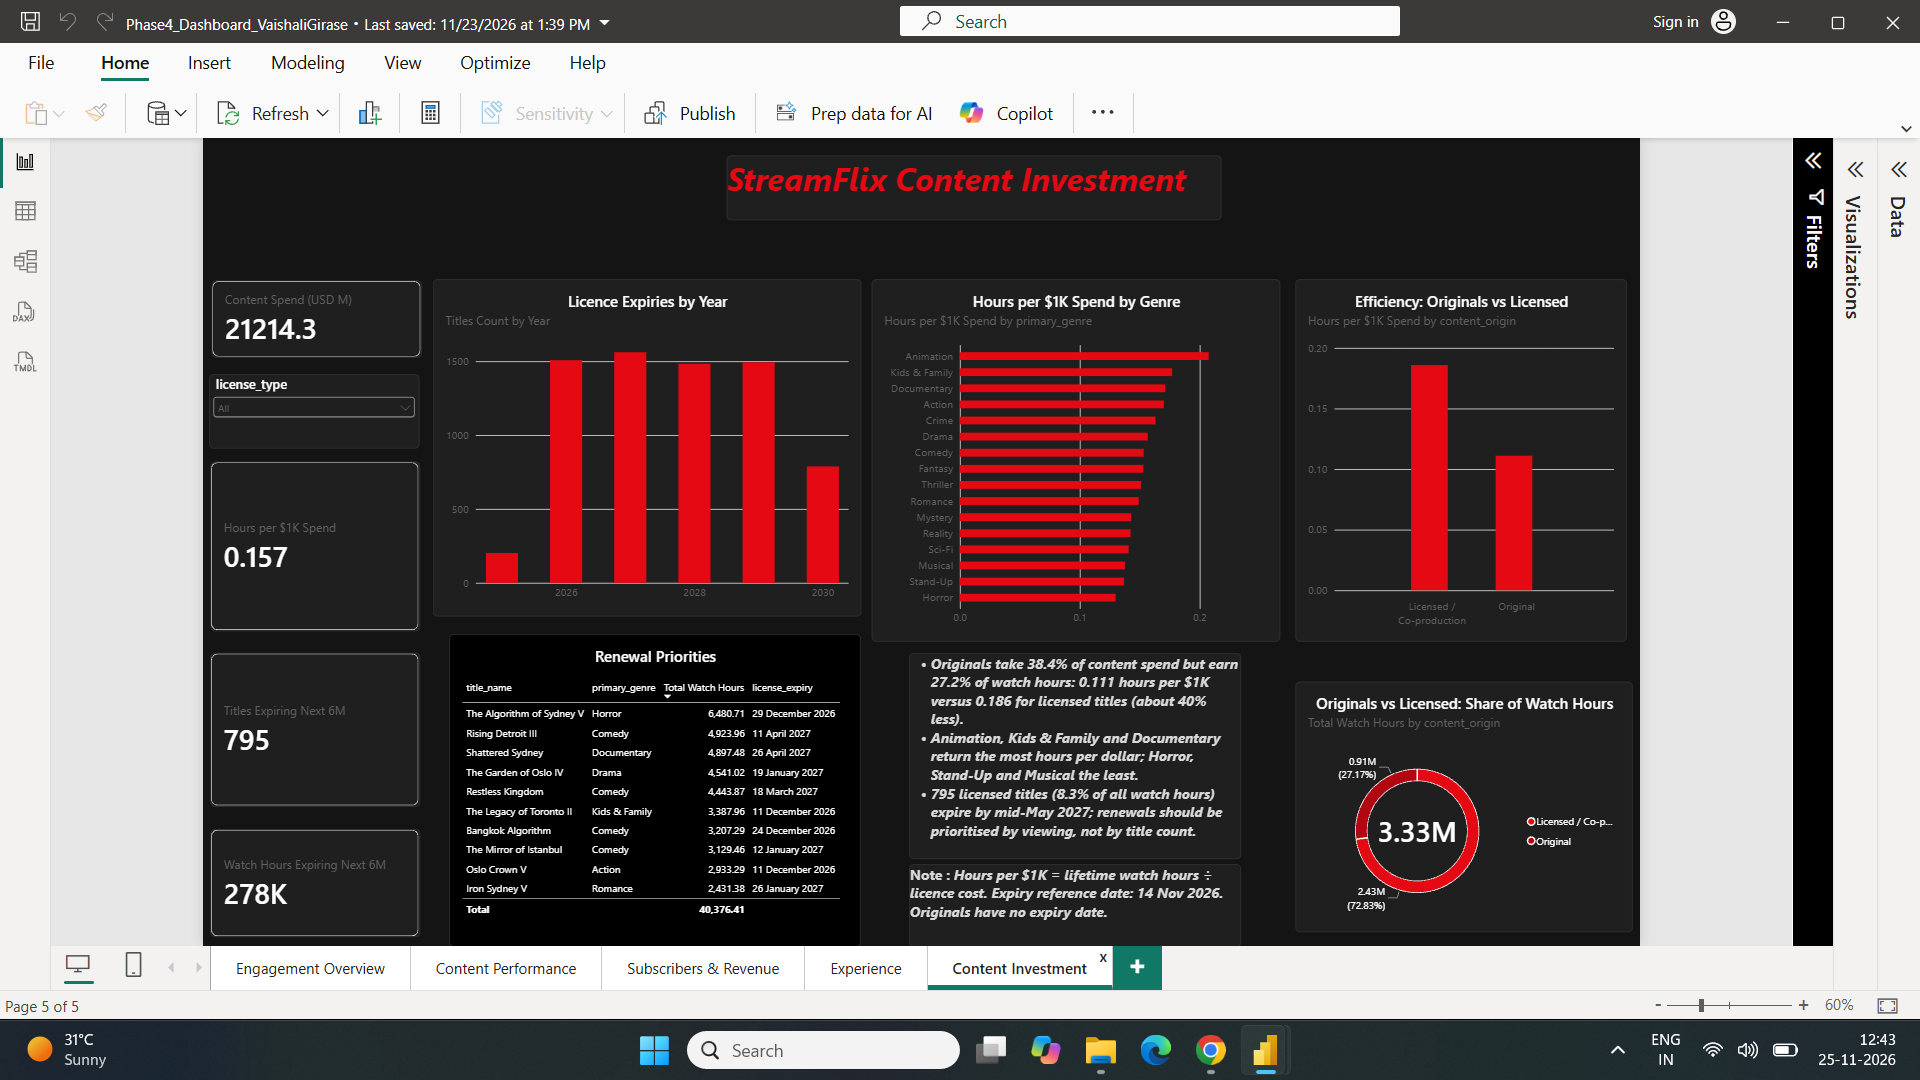

What the dashboard file says about the page in this screenshot:
{"tool":"powerbi","page":{"name":"Content Investment","canvas":[1920,1080],"ordinal":4},"visuals":[{"type":"cardVisual","fields":{"Data":["dim_titles.Content Spend (USD M)"]},"box":[10.9,190,280.5,103.2],"z":0},{"type":"cardVisual","fields":{"Data":["dim_titles.Hours per $1K Spend"]},"box":[10.3,432.2,279.9,226.4],"z":1000},{"type":"cardVisual","fields":{"Data":["dim_titles.Titles Expiring Next 6M"]},"box":[10.3,687.5,279.9,205.8],"z":2000},{"type":"cardVisual","fields":{"Data":["dim_titles.Watch Hours Expiring Next 6M"]},"box":[10.3,924.2,279.9,144.1],"z":3000},{"type":"columnChart","title":"Efficiency: Originals vs Licensed","fields":{"Category":["dim_titles.content_origin"],"Y":["dim_titles.Hours per $1K Spend"]},"box":[1459.4,189.4,442.5,483.7],"z":4000},{"type":"clusteredBarChart","title":"Hours per $1K Spend by Genre","fields":{"Category":["dim_titles.primary_genre"],"Y":["dim_titles.Hours per $1K Spend"]},"box":[893.3,189.4,545.5,483.7],"z":5000},{"type":"columnChart","title":"Licence Expiries by Year","fields":{"Category":["dim_titles.license_expiry.Variation.Date Hierarchy.Year","dim_titles.license_expiry.Variation.Date Hierarchy.Quarter","dim_titles.license_expiry.Variation.Date Hierarchy.Month","dim_titles.license_expiry.Variation.Date Hierarchy.Day"],"Y":["dim_titles.Titles Count"]},"box":[306.7,189.4,572.2,450.8],"z":6000},{"type":"tableEx","title":"Renewal Priorities","fields":{"Values":["dim_titles.title_name","dim_titles.primary_genre","fact_watch.Total Watch Hours","dim_titles.license_expiry"]},"box":[329.3,662.8,549.6,417.8],"z":7000},{"type":"textbox","box":[942.8,687.7,443.4,275.1],"z":8000},{"type":"textbox","box":[942.8,970,443.4,110.4],"z":9000},{"type":"textbox","box":[699.8,22.6,660.7,86.4],"z":10000},{"type":"donutChart","title":"Originals vs Licensed: Share of Watch Hours","fields":{"Category":["dim_titles.content_origin"],"Y":["fact_watch.Total Watch Hours"]},"box":[1458.6,725.7,450.6,334.8],"z":10001},{"type":"slicer","fields":{"Values":["dim_titles.license_type"]},"box":[9,314.9,280.5,99.5],"z":10002}]}

Visuals, with their boxes on the page's 1920x1080 design canvas (x1, y1, x2, y2). These are canvas units, not pixel positions in the 1920x1080 screenshot, which may show the page scaled, cropped or inside an application window:
cardVisual - dim_titles.Content Spend (USD M): x1=11, y1=190, x2=291, y2=293
cardVisual - dim_titles.Hours per $1K Spend: x1=10, y1=432, x2=290, y2=659
cardVisual - dim_titles.Titles Expiring Next 6M: x1=10, y1=688, x2=290, y2=893
cardVisual - dim_titles.Watch Hours Expiring Next 6M: x1=10, y1=924, x2=290, y2=1068
"Efficiency: Originals vs Licensed" columnChart: x1=1459, y1=189, x2=1902, y2=673
"Hours per $1K Spend by Genre" clusteredBarChart: x1=893, y1=189, x2=1439, y2=673
"Licence Expiries by Year" columnChart: x1=307, y1=189, x2=879, y2=640
"Renewal Priorities" tableEx: x1=329, y1=663, x2=879, y2=1081
textbox: x1=943, y1=688, x2=1386, y2=963
textbox: x1=943, y1=970, x2=1386, y2=1080
textbox: x1=700, y1=23, x2=1360, y2=109
"Originals vs Licensed: Share of Watch Hours" donutChart: x1=1459, y1=726, x2=1909, y2=1060
slicer - dim_titles.license_type: x1=9, y1=315, x2=290, y2=414
